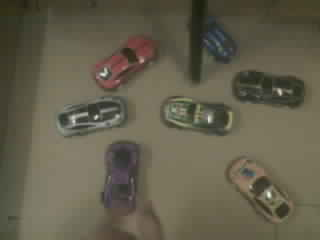Car: (228, 158, 291, 222), (96, 37, 153, 88), (161, 96, 233, 135), (232, 70, 303, 107), (58, 97, 125, 135), (106, 141, 137, 208), (203, 20, 234, 59)
